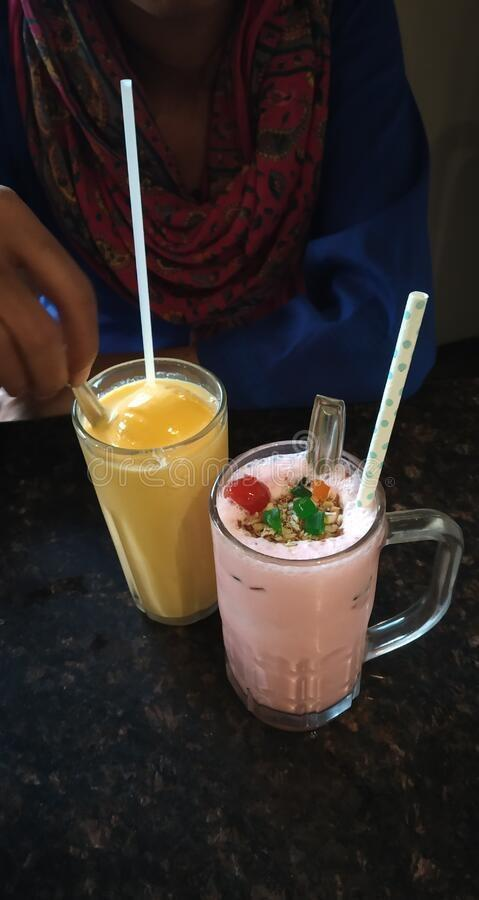glass-mug: (207, 431, 462, 731)
glass-normal: (70, 356, 230, 624)
